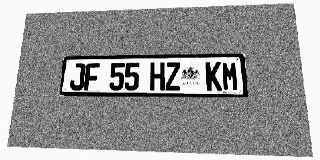5: (109, 63, 125, 90), (124, 63, 140, 90)
F: (84, 63, 100, 90)
H: (150, 62, 165, 91)
J: (69, 63, 85, 90)
K: (205, 62, 222, 91)
M: (221, 61, 239, 91)
Z: (165, 62, 181, 91)
